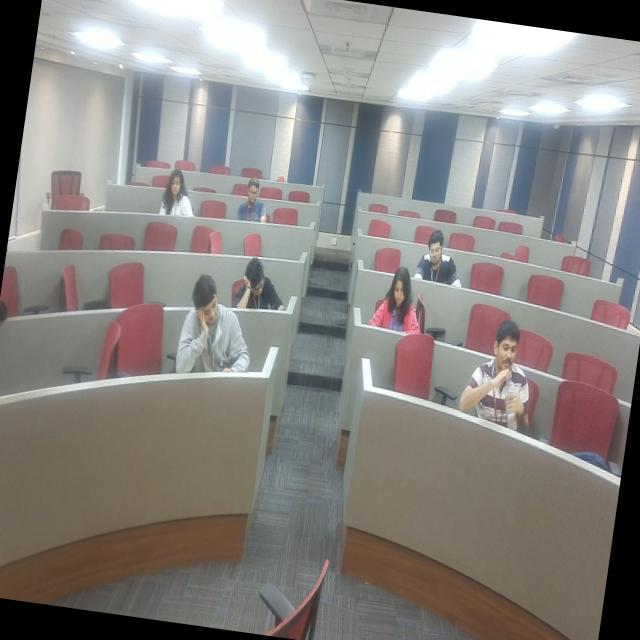non-cheating: (462, 300, 546, 454), (169, 271, 254, 392)
